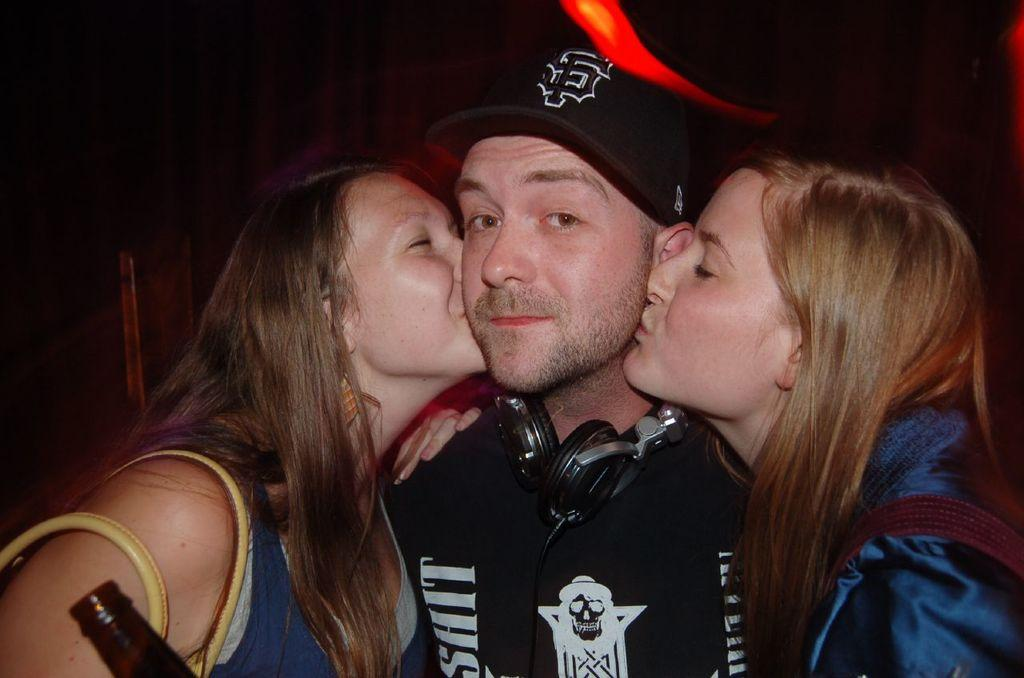Hat: (426, 38, 698, 228)
